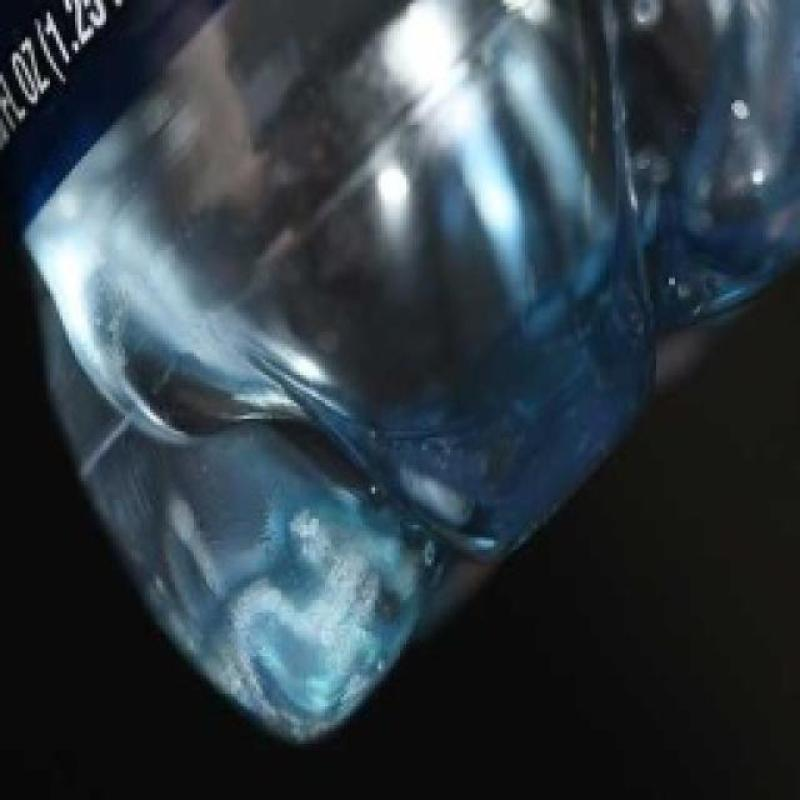botella: (0, 0, 800, 748)
